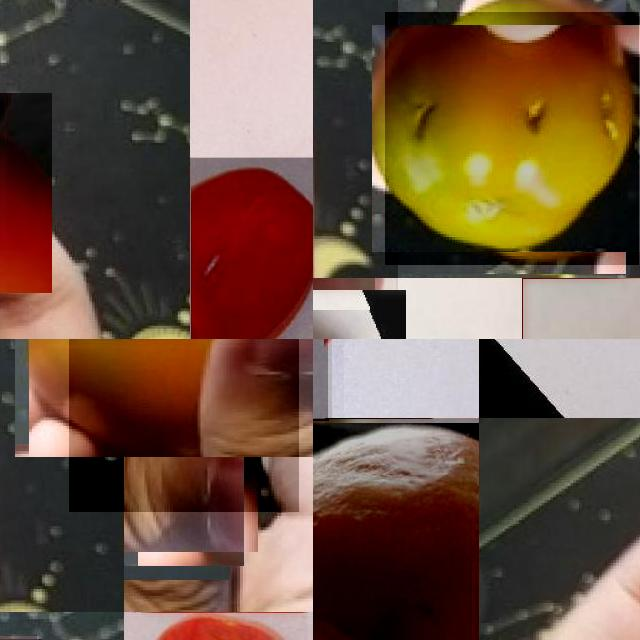1: (313, 418, 479, 640)
Rotten Tomato: (385, 12, 639, 265), (69, 339, 298, 511), (190, 157, 313, 339), (124, 612, 313, 640)
